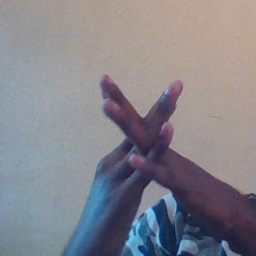W: (79, 61, 213, 227)
